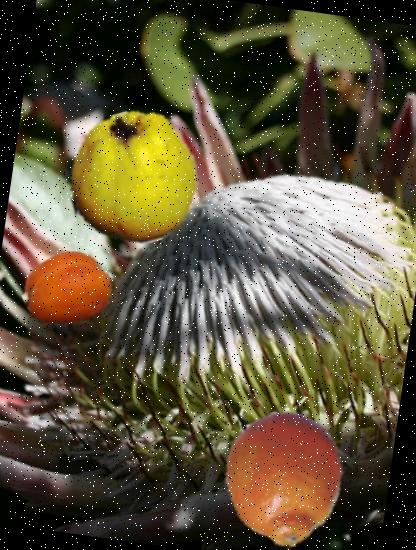Apricot: (18, 241, 117, 340)
Quince: (56, 104, 207, 255)
Tangelo: (208, 402, 363, 550)
